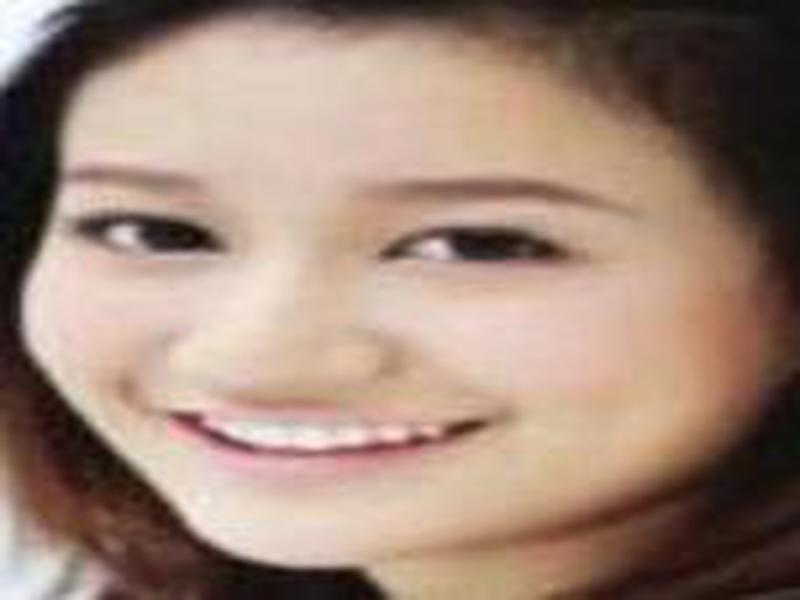without_mask: (23, 59, 736, 563)
